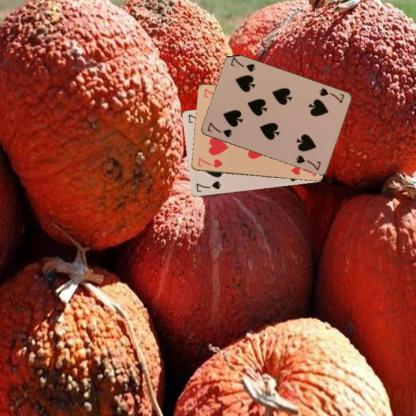7h: (195, 155, 224, 169)
7s: (204, 120, 233, 139), (316, 86, 345, 104), (194, 178, 223, 194)
